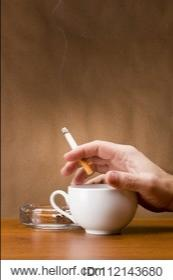Cigarette: (61, 127, 93, 176)
